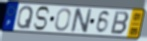6: (95, 10, 111, 34)
B: (110, 10, 130, 36)
N: (70, 7, 93, 34)
O: (54, 8, 72, 33)
Q: (16, 5, 35, 30)
S: (32, 6, 51, 32)
